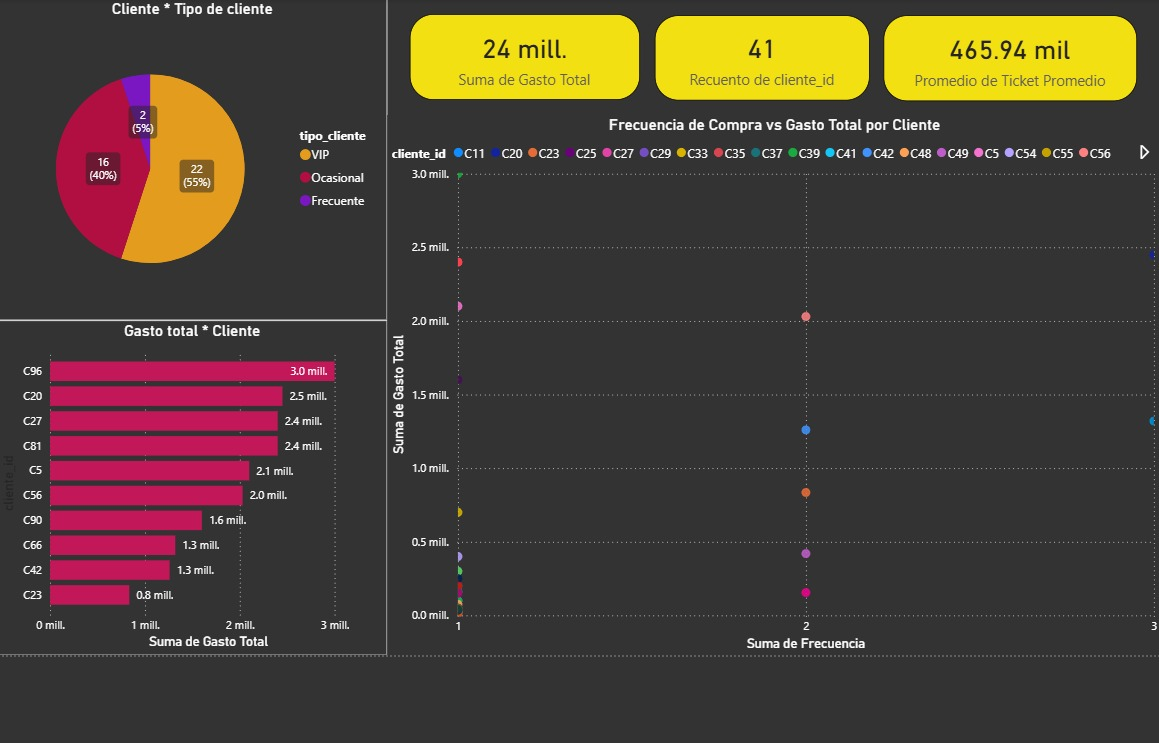

What the dashboard file says about the page in this screenshot:
{"tool":"powerbi","page":{"name":"Página 1","canvas":[1280,720],"ordinal":0},"visuals":[{"type":"card","fields":{"Values":["Count(Hoja final.cliente_id)"]},"box":[723.2,17.8,236,93.3],"z":0},{"type":"card","fields":{"Values":["Sum(Hoja final.Gasto Total)"]},"box":[454.2,16.5,252.5,94.7],"z":1000},{"type":"card","fields":{"Values":["Avg(Hoja final.Ticket Promedio)"]},"box":[974.3,17.8,278.6,94.7],"z":2000},{"type":"pieChart","title":"Cliente * Tipo de cliente","fields":{"Category":["Hoja final.tipo_cliente"],"Y":["CountNonNull(Hoja final.cliente_id)"]},"box":[0,0,429.5,352.7],"z":3000},{"type":"barChart","title":"Gasto total * Cliente","fields":{"Category":["Hoja final.cliente_id"],"Y":["Sum(Hoja final.Gasto Total)"]},"box":[0,352.7,429.5,367.8],"z":4000},{"type":"scatterChart","title":"Frecuencia de Compra vs Gasto Total por Cliente","fields":{"X":["Sum(Hoja final.Frecuencia)"],"Y":["Sum(Hoja final.Gasto Total)"],"Series":["Hoja final.cliente_id"]},"box":[429.5,127.6,850.8,592.8],"z":4001}]}

Visuals, with their boxes in screenshot pixels (x1, y1, x2, y2):
card - Count(Hoja final.cliente_id): Rect(649, 16, 860, 99)
card - Sum(Hoja final.Gasto Total): Rect(409, 15, 634, 99)
card - Avg(Hoja final.Ticket Promedio): Rect(873, 16, 1122, 100)
"Cliente * Tipo de cliente" pieChart: Rect(3, 0, 387, 315)
"Gasto total * Cliente" barChart: Rect(3, 315, 387, 643)
"Frecuencia de Compra vs Gasto Total por Cliente" scatterChart: Rect(387, 114, 1146, 643)
